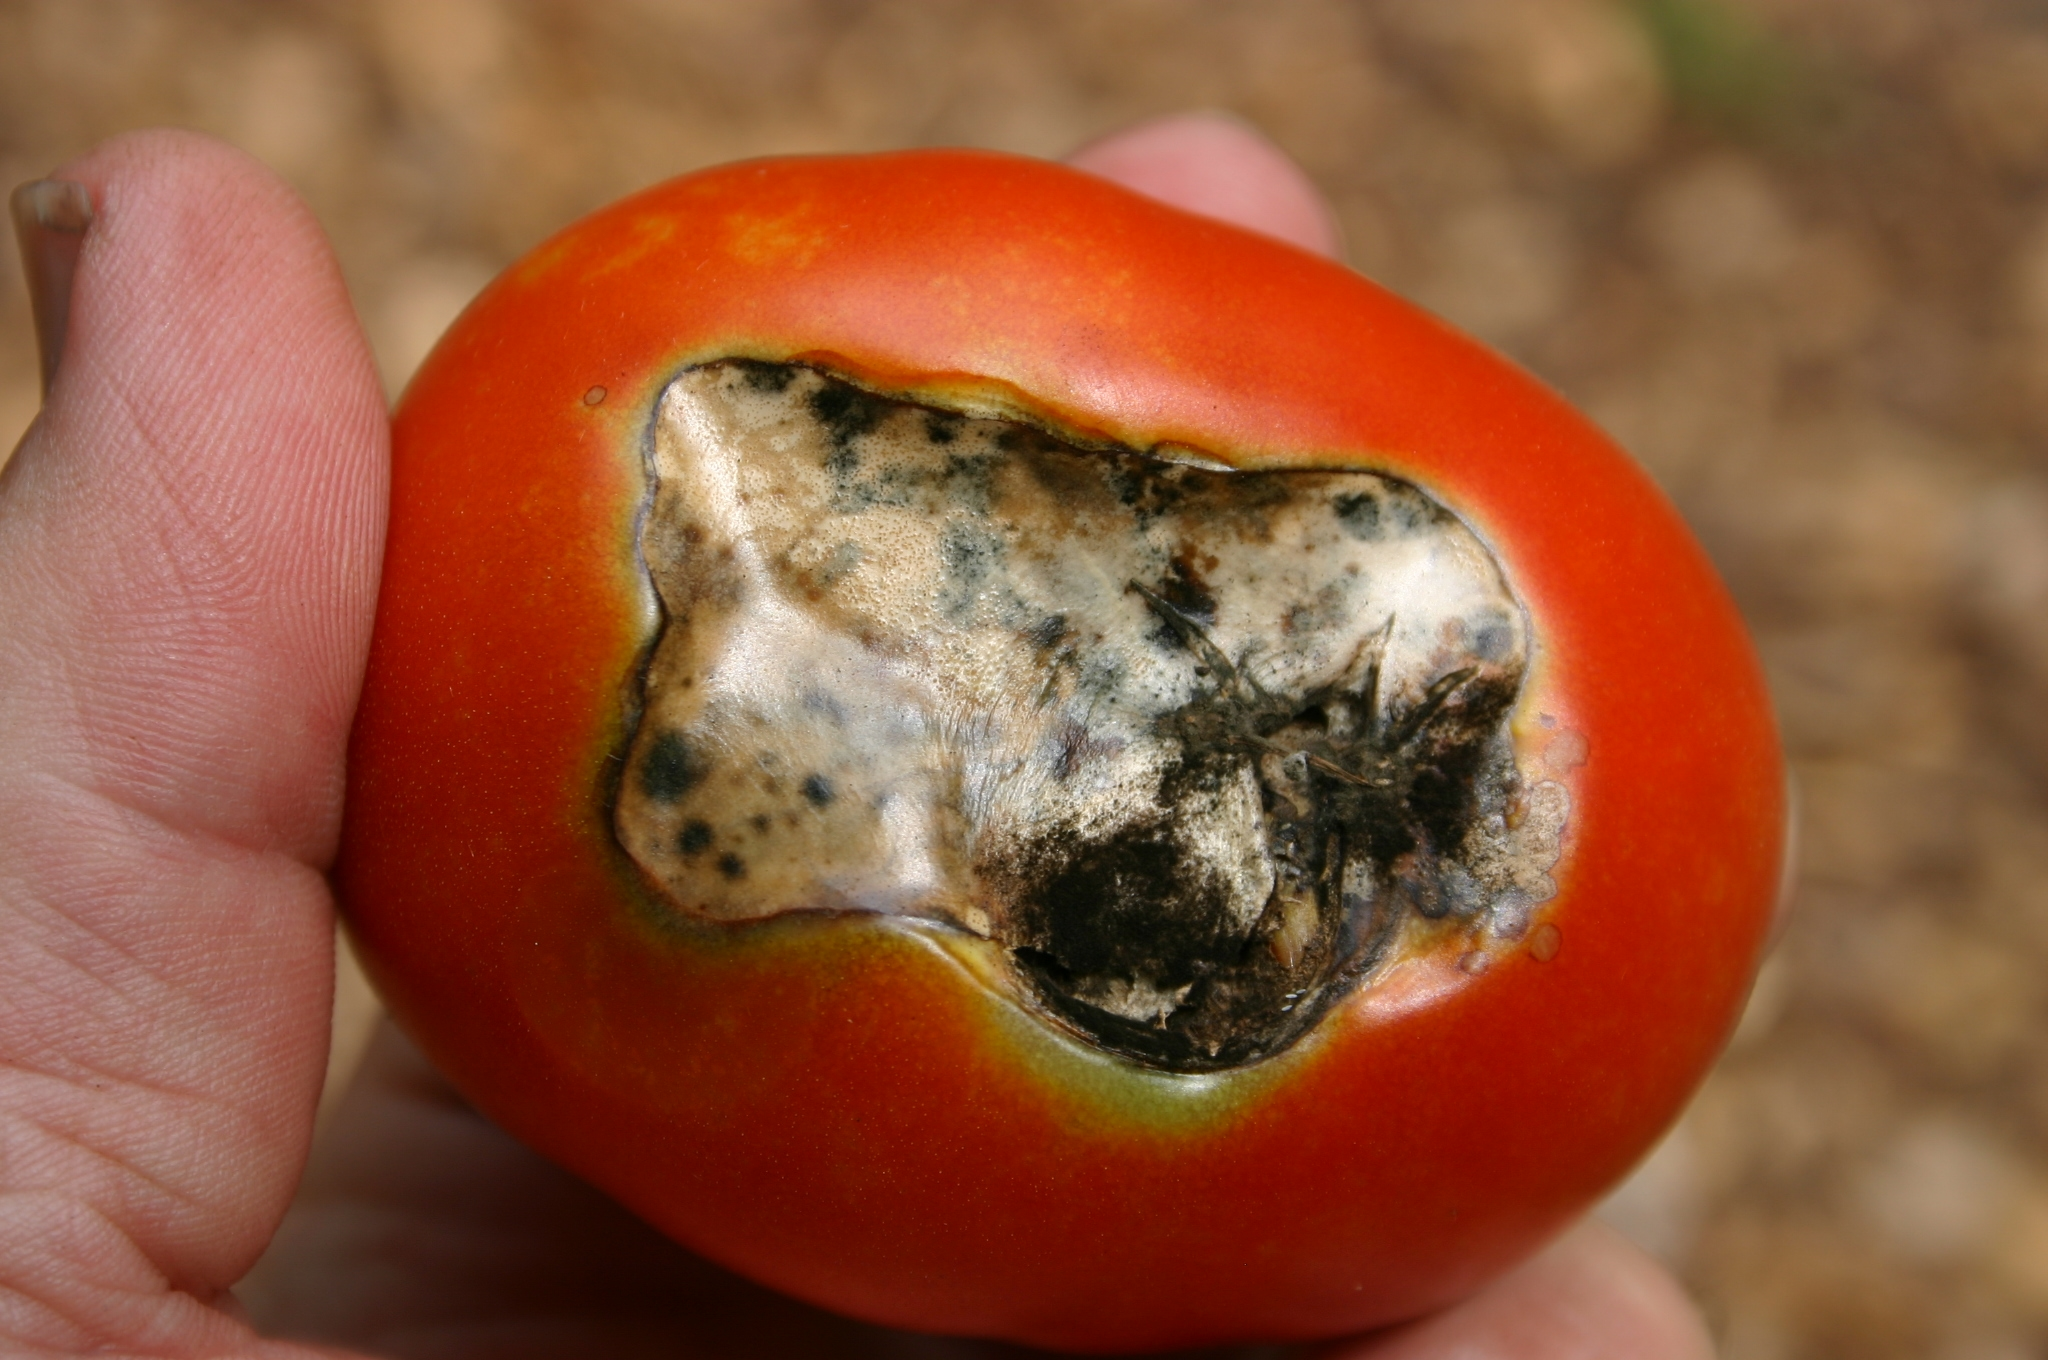blossom_rotw: (617, 304, 1613, 1096)
